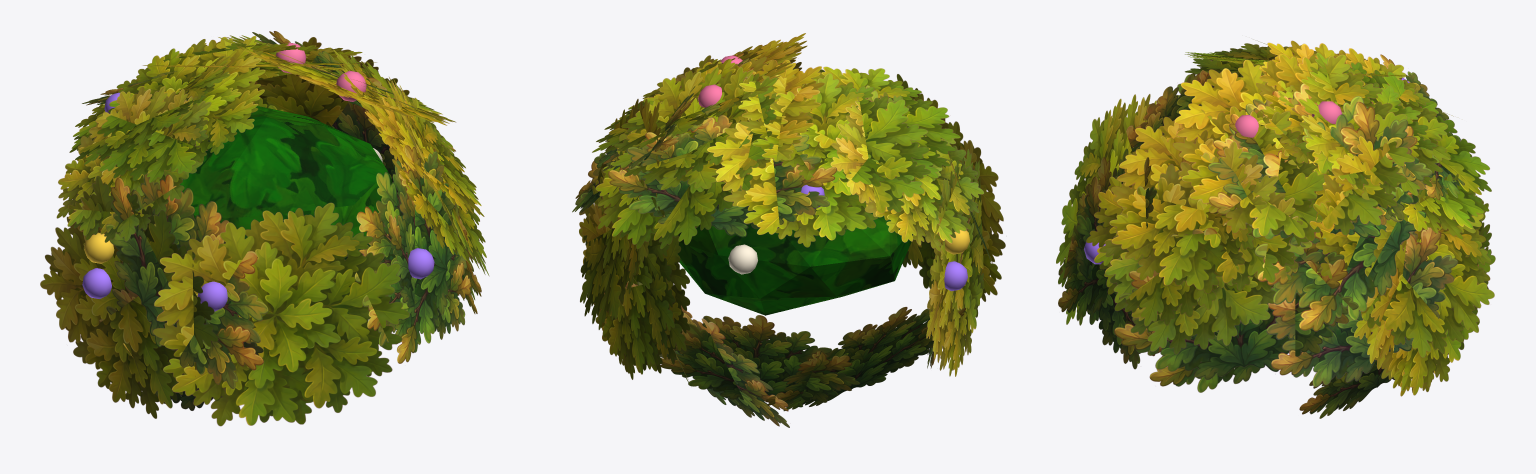
Rendered from bush.glb.
3 views of the same model, side by side, from view 1: azimuth 30°, elevation 25°; view 2: azimuth 150°, elevation 25°; view 3: azimuth 270°, elevation 25° (orthographic). The views are drawn at different scales.
Parts seen in each view (by area): view 1: bush_b, bush_a, bush_core, bush_flowers; view 2: bush_b, bush_a, bush_core, bush_flowers; view 3: bush_b, bush_a, bush_flowers.
Part boxes in pixels (left/top/right/bottom): bush_b: left=40, top=35, right=489, bottom=426; bush_a: left=82, top=31, right=481, bottom=410; bush_core: left=180, top=106, right=392, bottom=259; bush_flowers: left=82, top=42, right=434, bottom=311; bush_b: left=579, top=33, right=1005, bottom=379; bush_a: left=572, top=53, right=992, bottom=427; bush_core: left=677, top=213, right=912, bottom=315; bush_flowers: left=593, top=55, right=969, bottom=291; bush_b: left=1056, top=40, right=1495, bottom=396; bush_a: left=1058, top=54, right=1464, bottom=418; bush_flowers: left=1084, top=77, right=1409, bottom=264.
Bounding box in the file's own units: 2.69 × 2.51 × 2.72.
7 materials, 3 textured.
